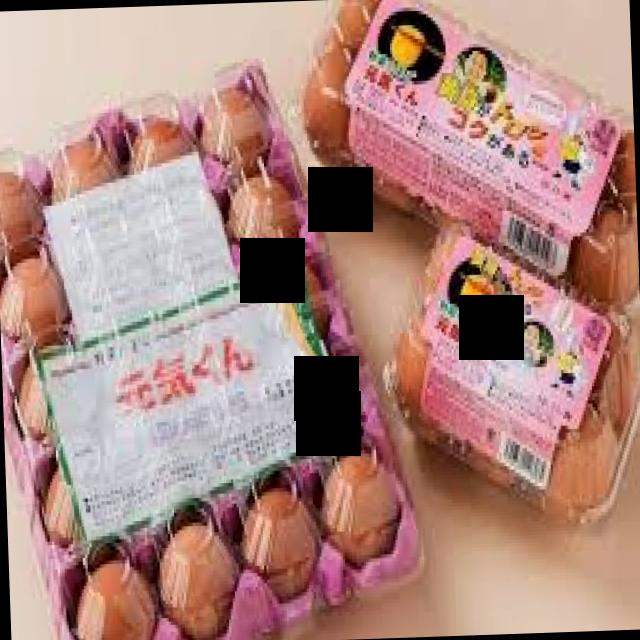egg: (0, 58, 422, 640), (291, 0, 639, 302), (382, 227, 639, 524)
